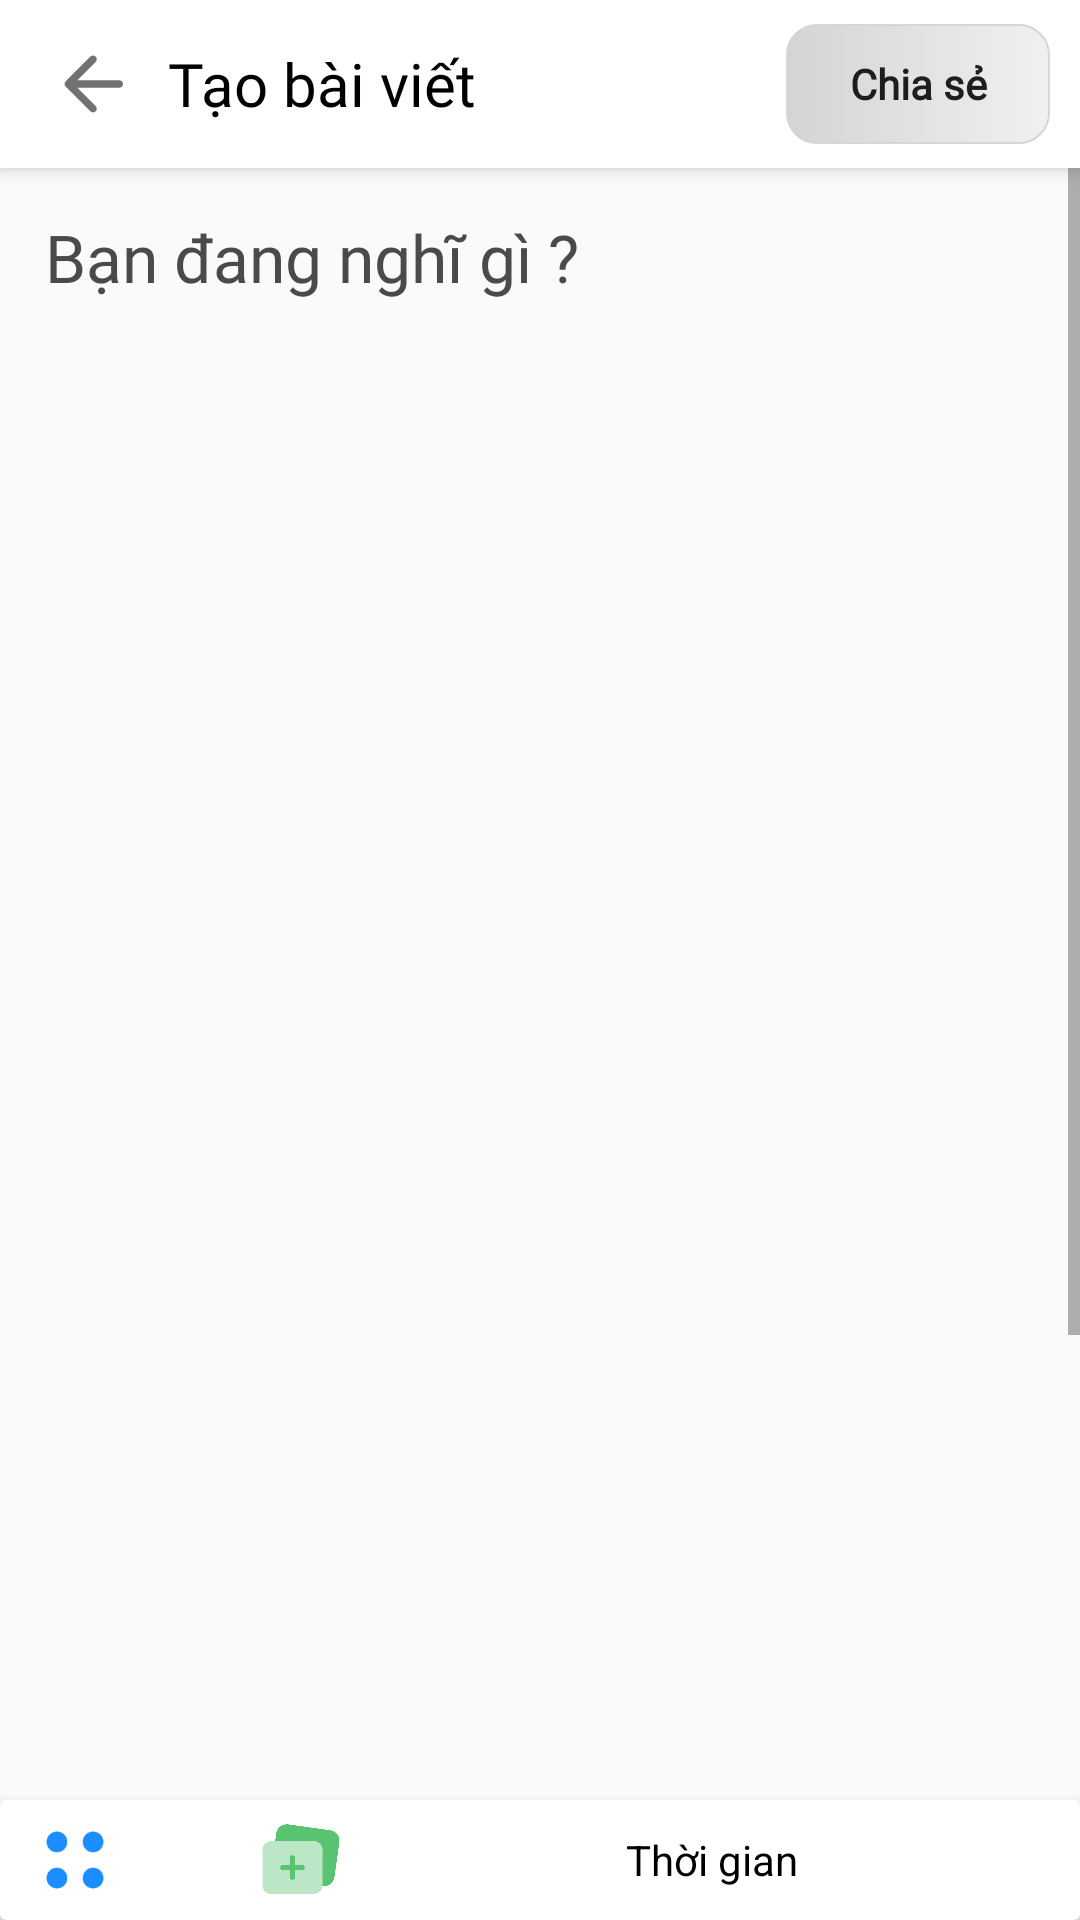

Icons on this 1080x1920 Android screen, each with its box as (x1, y1, x2, y2):
add: (262, 1824, 340, 1894)
arrow back: (64, 55, 123, 113)
